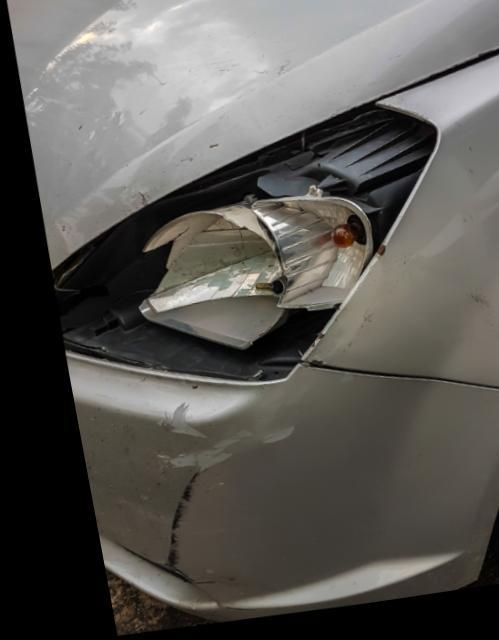lamp broken: (41, 115, 428, 385)
scratch: (97, 406, 284, 595)
